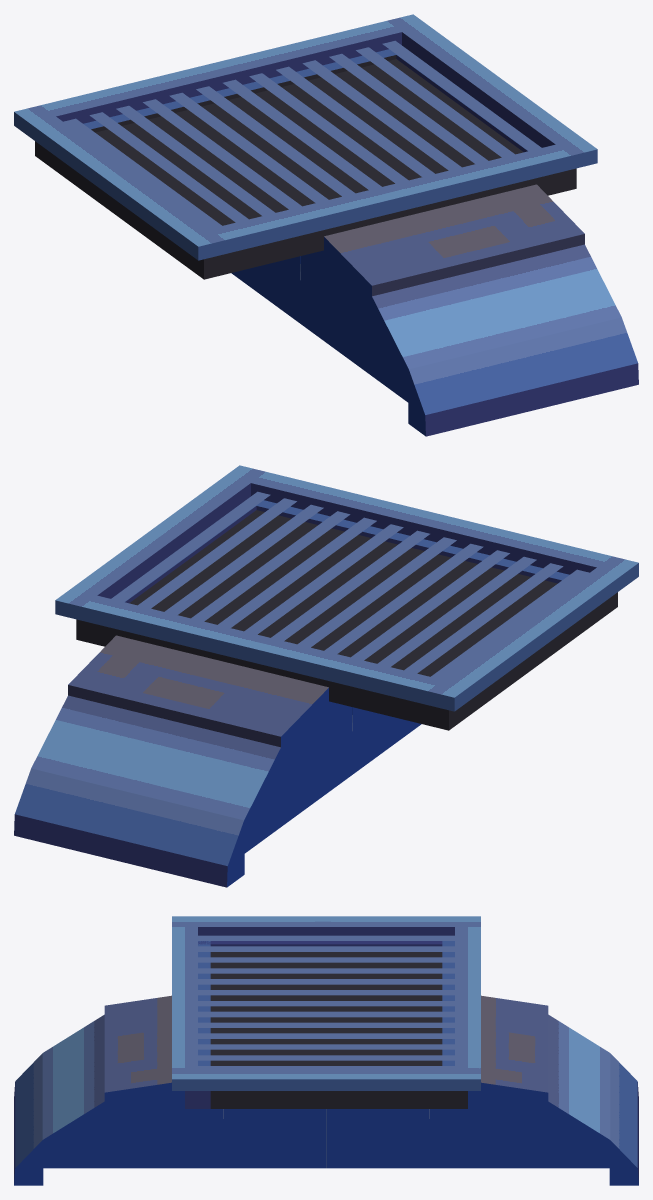
The model's file is df21_radiator_fan_lh.obj.
The picture shows the model from 3 angles, top to bottom: view 1: azimuth 30°, elevation 25°; view 2: azimuth 150°, elevation 25°; view 3: azimuth 270°, elevation 25°; orthographic projection. The views are drawn at different scales.
Parts seen in each view (by area): view 1: cuboid_selection_selection_selection_selection_selection__part_1, cube__part_1689, cube__part_1754, cube__part_1767, cube__part_1741, cube__part_1780, cube__part_1676, cube__part_1702, cube__part_1715, cube__part_1832, cube__part_1793, cube__part_1871 (+11 smaller); view 2: cuboid_selection_selection_selection_selection_selection__part_1, cube__part_1689, cube__part_1767, cube__part_1754, cube__part_1741, cube__part_1780, cube__part_1702, cube__part_1715, cube__part_1676, cube__part_1832, cube__part_1793, cube__part_1871 (+11 smaller); view 3: cuboid_selection_selection_selection_selection_selection__part_1, cube__part_1689, cube__part_1780, cube__part_1741, cube__part_1754, cube__part_1767, cube__part_1728, cube__part_1871, cube__part_1793, cube__part_1806, cube__part_1819, cube__part_1832 (+11 smaller).
Part boxes in pixels (x1=…): cuboid_selection_selection_selection_selection_selection__part_1: x1=231, y1=184, x2=638, y2=436; cube__part_1689: x1=95, y1=59, x2=523, y2=225; cube__part_1754: x1=183, y1=138, x2=597, y2=260; cube__part_1767: x1=14, y1=14, x2=428, y2=136; cube__part_1741: x1=29, y1=116, x2=208, y2=248; cube__part_1780: x1=402, y1=25, x2=581, y2=147; cube__part_1676: x1=188, y1=168, x2=576, y2=279; cube__part_1702: x1=35, y1=49, x2=396, y2=166; cube__part_1715: x1=50, y1=152, x2=196, y2=273; cube__part_1832: x1=329, y1=53, x2=488, y2=163; cube__part_1793: x1=89, y1=112, x2=248, y2=222; cube__part_1871: x1=249, y1=73, x2=408, y2=183; cuboid_selection_selection_selection_selection_selection__part_1: x1=14, y1=635, x2=421, y2=887; cube__part_1689: x1=129, y1=510, x2=557, y2=676; cube__part_1767: x1=55, y1=589, x2=469, y2=711; cube__part_1754: x1=224, y1=465, x2=638, y2=587; cube__part_1741: x1=444, y1=567, x2=623, y2=699; cube__part_1780: x1=71, y1=476, x2=250, y2=598; cube__part_1702: x1=76, y1=619, x2=464, y2=730; cube__part_1715: x1=464, y1=598, x2=610, y2=718; cube__part_1676: x1=256, y1=500, x2=617, y2=612; cube__part_1832: x1=164, y1=504, x2=323, y2=614; cube__part_1793: x1=404, y1=563, x2=563, y2=673; cube__part_1871: x1=244, y1=524, x2=403, y2=634; cuboid_selection_selection_selection_selection_selection__part_1: x1=14, y1=995, x2=638, y2=1185; cube__part_1689: x1=210, y1=952, x2=442, y2=1065; cube__part_1780: x1=198, y1=1068, x2=454, y2=1090; cube__part_1741: x1=198, y1=916, x2=454, y2=935; cube__part_1754: x1=172, y1=916, x2=197, y2=1090; cube__part_1767: x1=455, y1=916, x2=480, y2=1090; cube__part_1728: x1=210, y1=1091, x2=442, y2=1108; cube__part_1871: x1=198, y1=1011, x2=454, y2=1017; cube__part_1793: x1=198, y1=946, x2=454, y2=951; cube__part_1806: x1=198, y1=1055, x2=454, y2=1060; cube__part_1819: x1=198, y1=1033, x2=454, y2=1038; cube__part_1832: x1=198, y1=1044, x2=454, y2=1049.
Bounding box in the file's own units: 1.88 × 0.6875 × 3.04.
